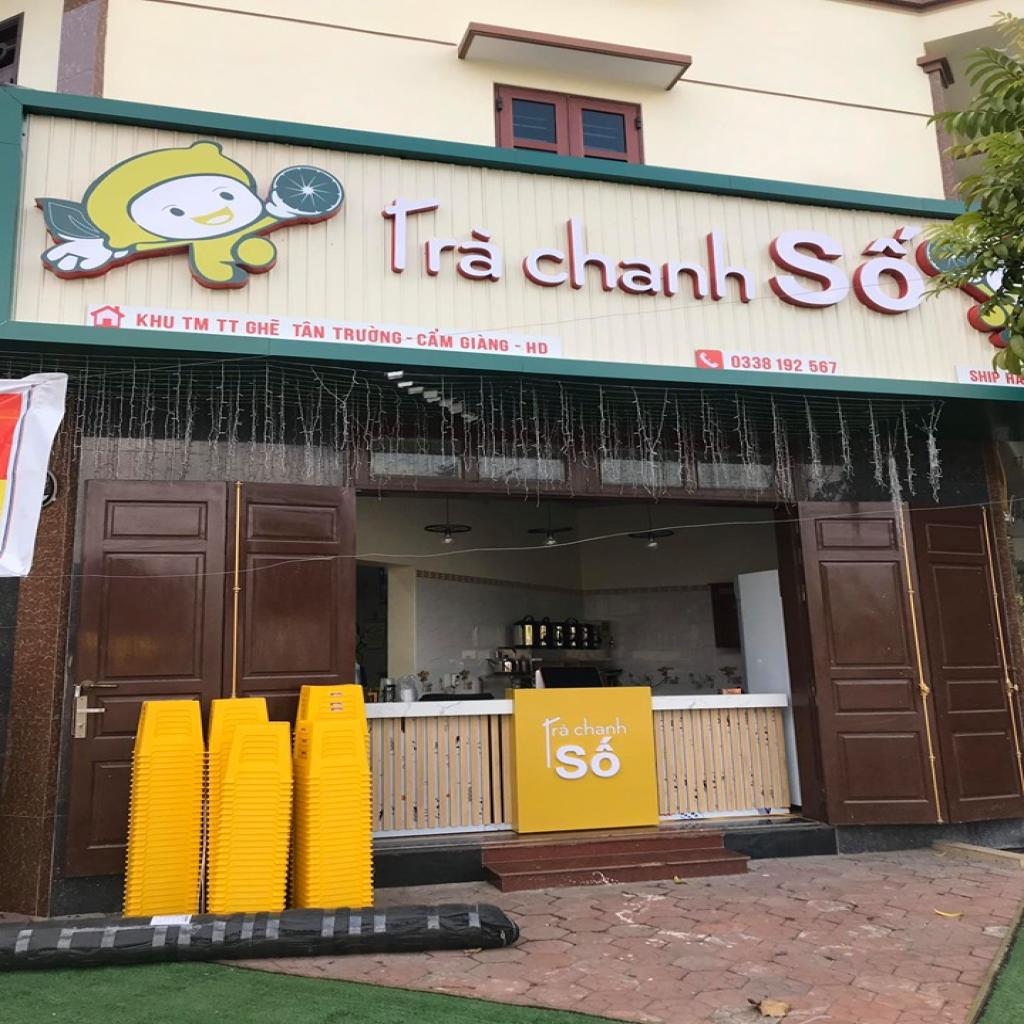text: (525, 211, 758, 302), (772, 212, 929, 314), (381, 192, 504, 281), (555, 736, 623, 781), (730, 355, 840, 376), (330, 321, 404, 345), (540, 716, 572, 767), (573, 717, 629, 738), (460, 333, 510, 353), (417, 326, 455, 350), (243, 316, 283, 337), (135, 312, 178, 330), (292, 319, 327, 340), (179, 316, 211, 333), (968, 369, 1002, 385), (215, 318, 242, 334), (525, 340, 549, 356), (1004, 372, 1024, 387)
